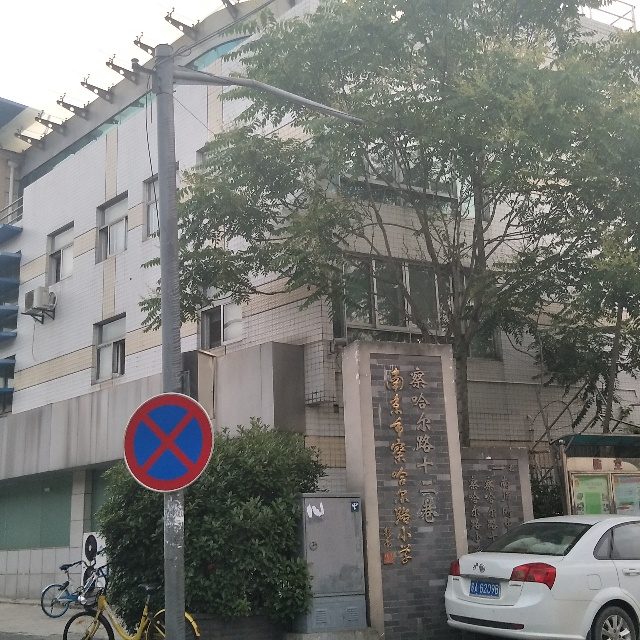stop: (129, 401, 206, 478)
